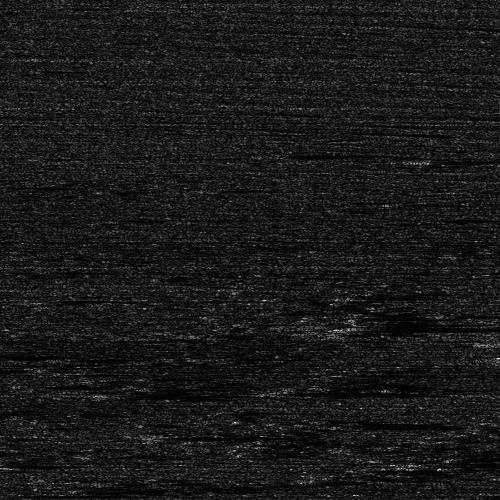rock: (243, 384, 306, 395), (335, 321, 388, 332), (465, 338, 500, 343), (0, 492, 24, 495)
shadow: (275, 384, 425, 395), (362, 321, 500, 332), (9, 492, 138, 495), (280, 152, 357, 153)
